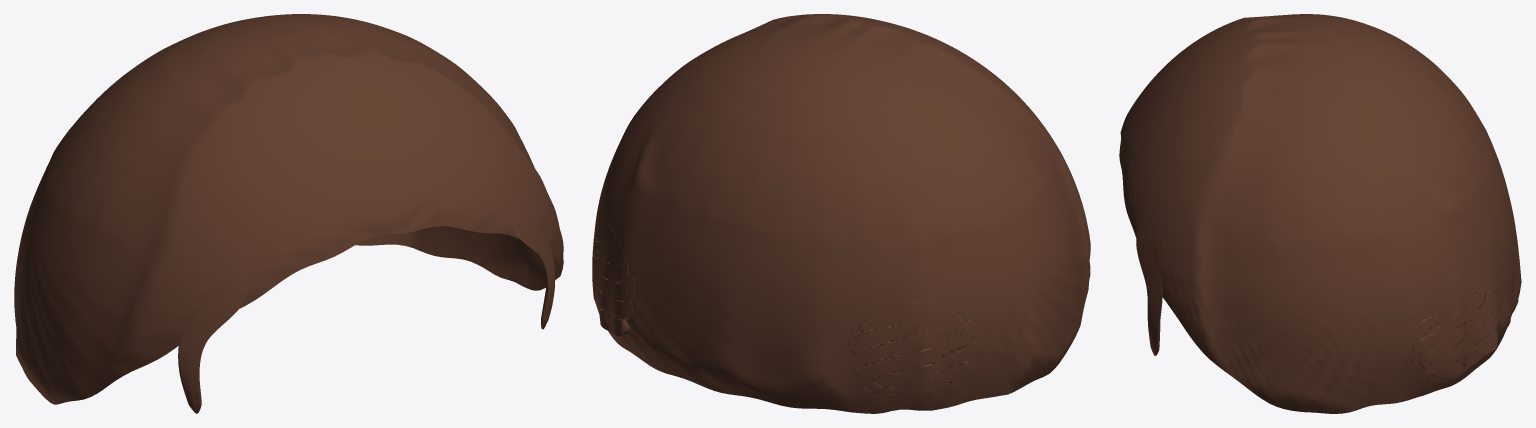
File: Feminine-space-buns-covered248-hair.glb
The picture shows the model from 3 angles, left to right: view 1: azimuth 30°, elevation 25°; view 2: azimuth 150°, elevation 25°; view 3: azimuth 270°, elevation 25°; orthographic projection. The views are drawn at different scales.
Parts seen in each view (by area): view 1: 226 hair / Hair / chestnut226.002; view 2: 226 hair / Hair / chestnut226.002; view 3: 226 hair / Hair / chestnut226.002.
Boxes of the visible parts, x1,y1,x2,y2 form: 226 hair / Hair / chestnut226.002: (14,14,563,413); 226 hair / Hair / chestnut226.002: (592,14,1090,413); 226 hair / Hair / chestnut226.002: (1119,14,1521,413).
Size of the model in its own units: 0.9582 by 0.5873 by 0.7725.
